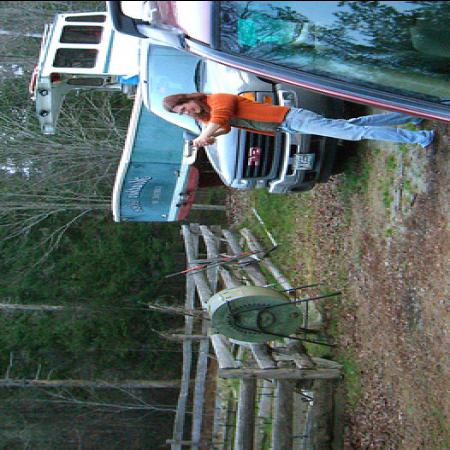Pistol: (180, 136, 210, 156)
